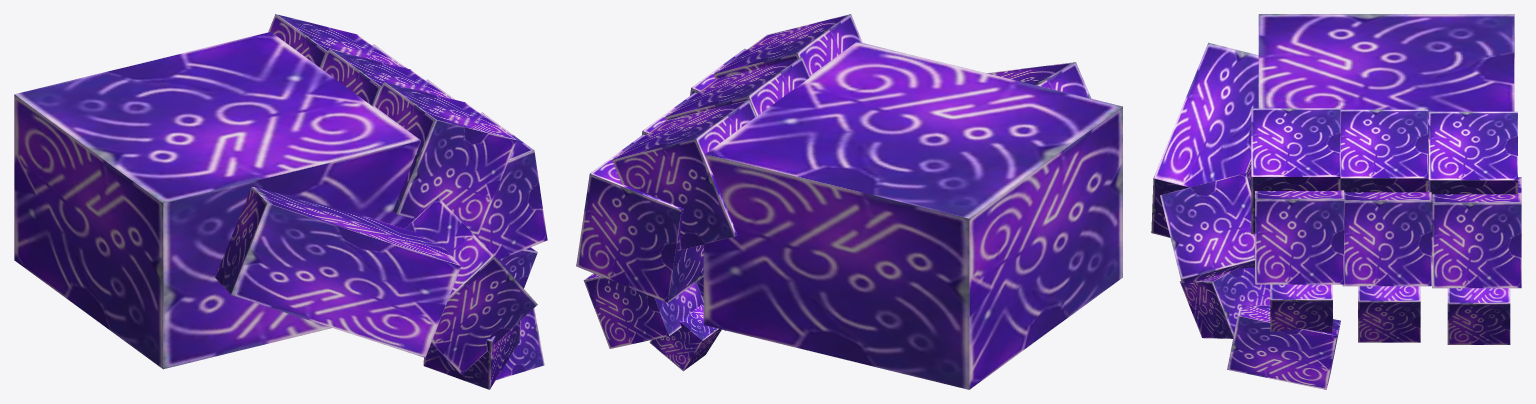
Rendered from fist.obj.
The picture shows the model from 3 angles, left to right: view 1: azimuth 30°, elevation 25°; view 2: azimuth 150°, elevation 25°; view 3: azimuth 270°, elevation 25°; orthographic projection. The views are drawn at different scales.
Parts seen in each view (by area): view 1: Cube, 立方体, 立方体.001, 立方体.013, 立方体.002, 立方体.006, 立方体.007, 立方体.015_立方体.017, 立方体.014_立方体.016, 立方体.003; view 2: Cube, 立方体.008, 立方体.007, 立方体.009, 立方体.001, 立方体.006, 立方体.010, 立方体; view 3: Cube, 立方体, 立方体.008, 立方体.002, 立方体.005, 立方体.013, 立方体.001, 立方体.007, 立方体.006, 立方体.014_立方体.016, 立方体.015_立方体.017, 立方体.009 (+2 smaller).
Boxes of the visible parts, x1,y1,x2,y2 form: Cube: (14,31,420,369); 立方体: (215,186,461,357); 立方体.001: (375,82,516,234); 立方体.013: (405,197,537,374); 立方体.002: (473,112,547,259); 立方体.006: (321,49,449,106); 立方体.007: (268,14,400,67); 立方体.015_立方体.017: (423,320,520,389); 立方体.014_立方体.016: (496,308,544,380); 立方体.003: (498,247,537,288); Cube: (703,41,1122,389); 立方体.008: (576,134,703,302); 立方体.007: (612,100,756,250); 立方体.009: (583,273,703,348); 立方体.001: (713,14,862,79); 立方体.006: (665,57,810,120); 立方体.010: (649,304,721,371); 立方体: (987,62,1091,98); Cube: (1258,14,1514,264); 立方体: (1151,42,1258,237); 立方体.008: (1432,177,1521,288); 立方体.002: (1255,190,1344,284); 立方体.005: (1342,175,1431,286); 立方体.013: (1160,173,1254,290); 立方体.001: (1251,108,1340,233); 立方体.007: (1428,111,1517,236); 立方体.006: (1340,109,1427,192); 立方体.014_立方体.016: (1227,305,1340,389); 立方体.015_立方体.017: (1180,267,1270,338); 立方体.009: (1447,288,1510,344).
Bounding box in the file's own units: 12.14 × 8.57 × 11.86.
Materials: 17 (17 with a texture image).
